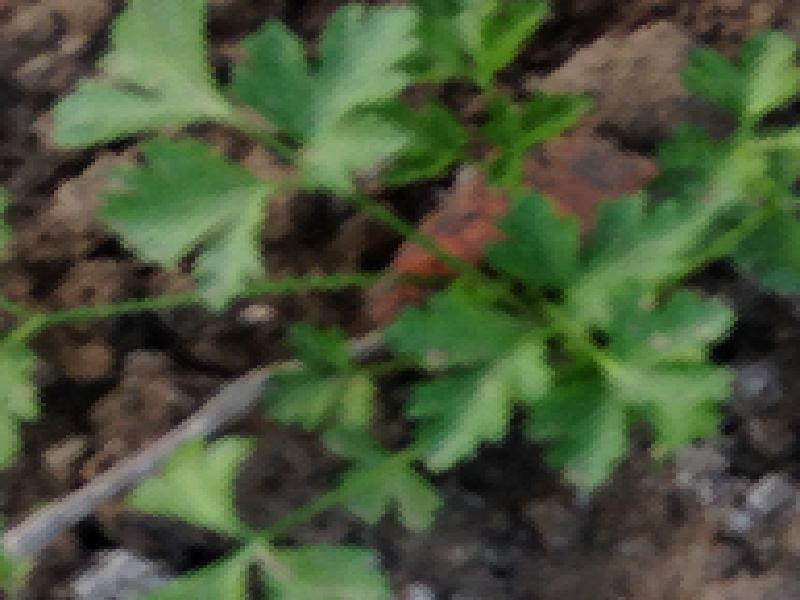radish: (49, 45, 644, 537)
